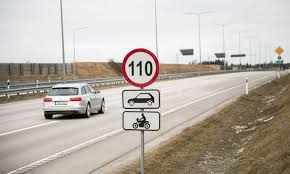Speed_limit_110km: (121, 48, 160, 87)
car: (42, 82, 107, 120)
